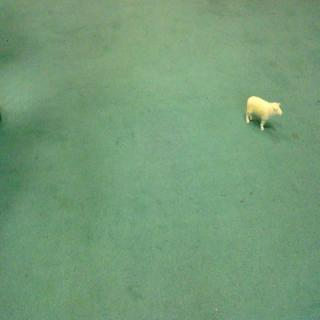sheep: (242, 93, 285, 134)
